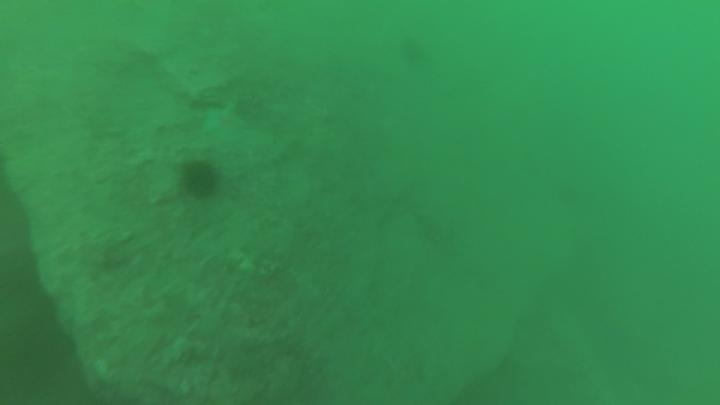echinus: (180, 163, 218, 200)
